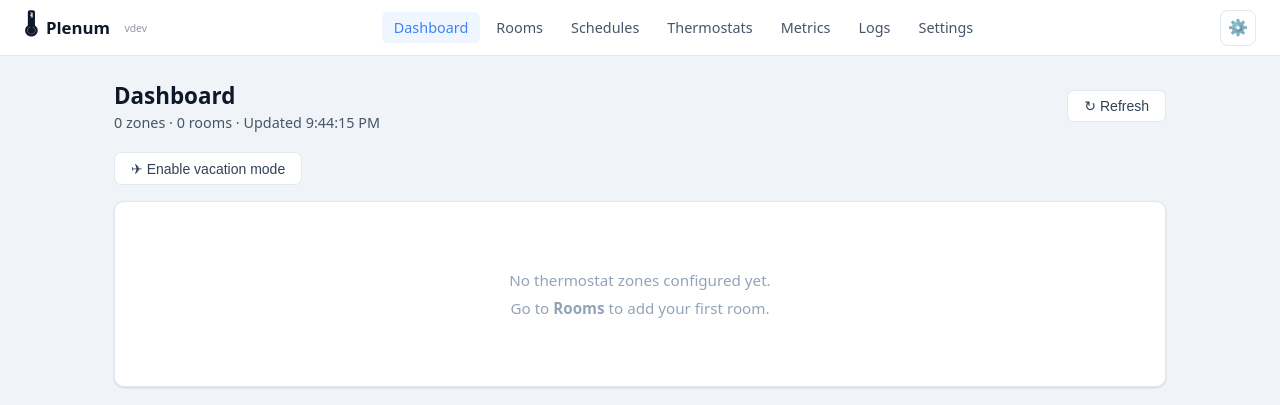
AuthGate resilience › falls through to the app when the public status probe fails
Expected: the text "Dashboard" is shown, [114,80,235,111]
Click the button named "Settings" at (1238, 28), box [1220,10,1256,46]
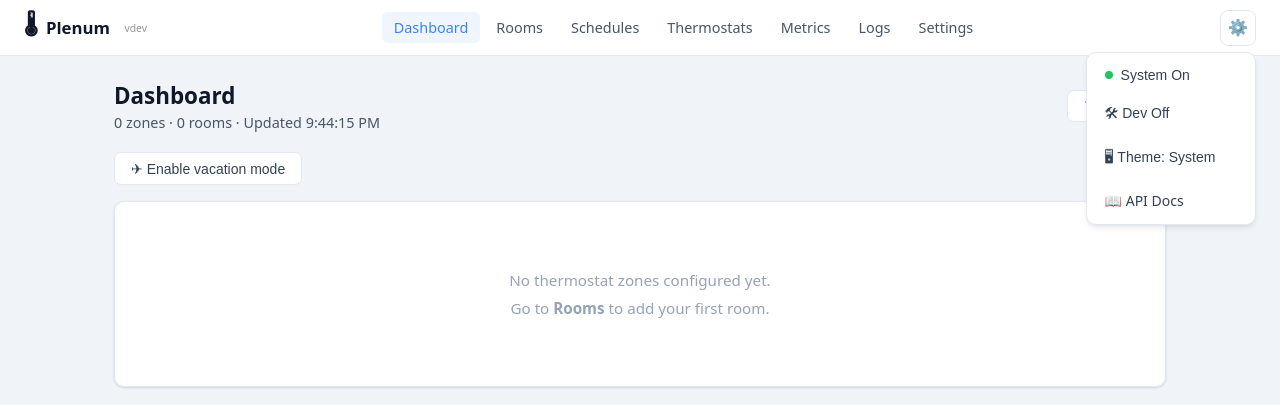
Now the button "System On" is shown, box [1093,58,1249,92]
